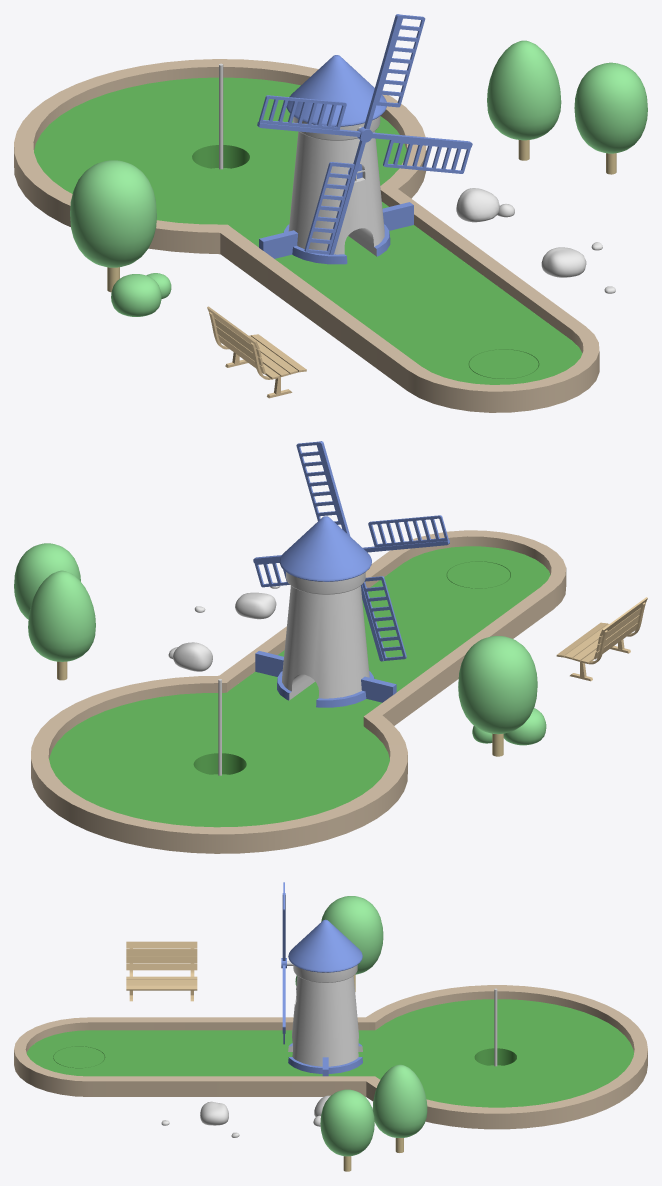
File: Windmill01.glb
3 renders of one model, top to bottom at view 1: azimuth 30°, elevation 25°; view 2: azimuth 150°, elevation 25°; view 3: azimuth 270°, elevation 25°, orthographic. The views are drawn at different scales.
Visible parts, largest first — view 1: Goal, Start, Tree, Windmill, Fan, Bench, Rock, Bush, Flip, Wall; view 2: Goal, Start, Tree, Windmill, Fan, Bench, Rock, Flip, Wall, Bush; view 3: Goal, Start, Windmill, Tree, Bench, Rock, Flip, Fan.
Boxes of the visible parts, box(x1,y1,x2,y2) form: Goal: box(14, 59, 426, 254); Start: box(220, 189, 599, 412); Tree: box(70, 40, 647, 292); Windmill: box(283, 55, 390, 264); Fan: box(257, 14, 472, 254); Bench: box(207, 306, 306, 398); Rock: box(456, 188, 615, 293); Bush: box(111, 273, 171, 316); Flip: box(469, 349, 538, 378); Wall: box(259, 202, 413, 258); Goal: box(31, 675, 407, 853); Start: box(219, 530, 566, 725); Tree: box(14, 543, 537, 756); Windmill: box(277, 516, 374, 707); Fan: box(253, 441, 449, 661); Bench: box(556, 597, 647, 681); Rock: box(168, 582, 280, 671); Flip: box(447, 561, 510, 588); Wall: box(255, 651, 396, 702); Bush: box(472, 708, 546, 745); Goal: box(365, 985, 647, 1129); Start: box(14, 1017, 369, 1096); Windmill: box(288, 919, 362, 1073); Tree: box(320, 896, 427, 1171); Bench: box(126, 941, 197, 1001); Rock: box(161, 1095, 330, 1137); Flip: box(53, 1046, 104, 1068); Fan: box(281, 882, 286, 1044).
Size of the model in its own units: 5.56 by 2.47 by 7.34.
